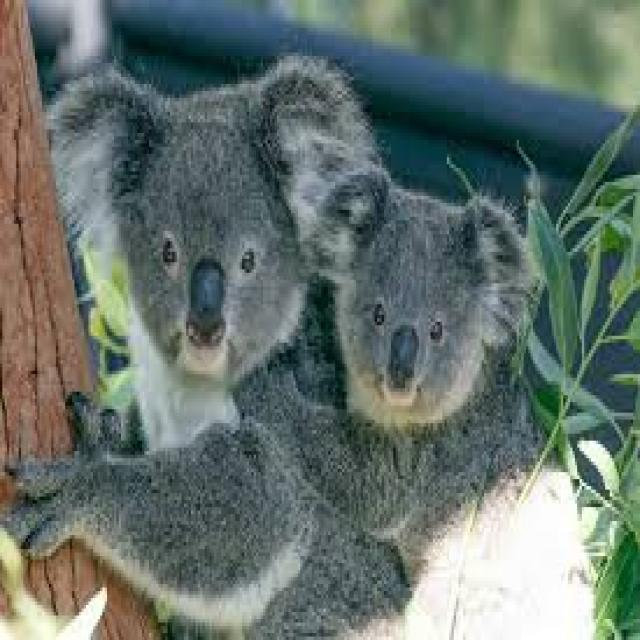Koala: (4, 48, 382, 640), (254, 135, 552, 545)
